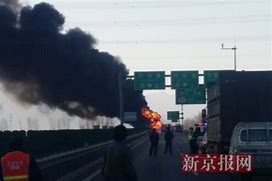smoke: (1, 1, 154, 122)
